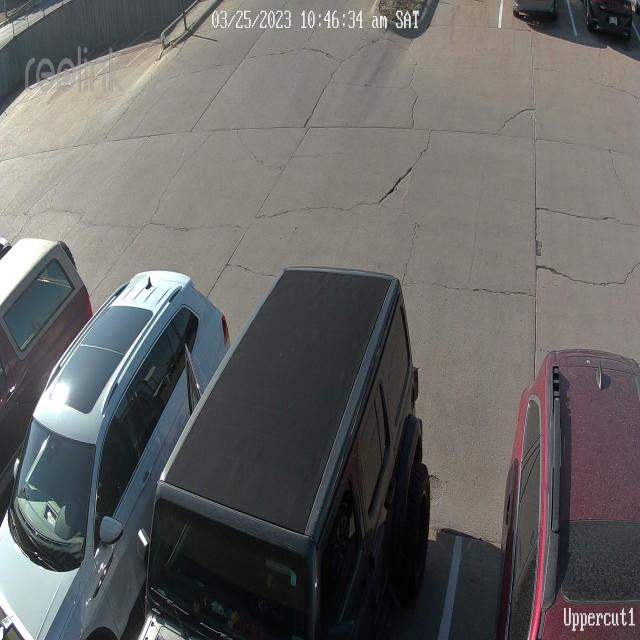Empty-slot: (409, 0, 509, 60)
Slot-Occupied: (154, 268, 431, 630), (5, 271, 226, 640), (498, 352, 640, 640), (0, 241, 96, 463), (588, 0, 637, 45), (516, 0, 563, 26)
